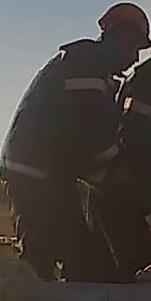helmet: (94, 0, 150, 50)
vest: (0, 40, 106, 194), (117, 60, 150, 207)
